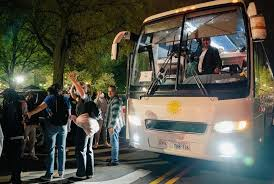bus: (110, 1, 274, 167)
